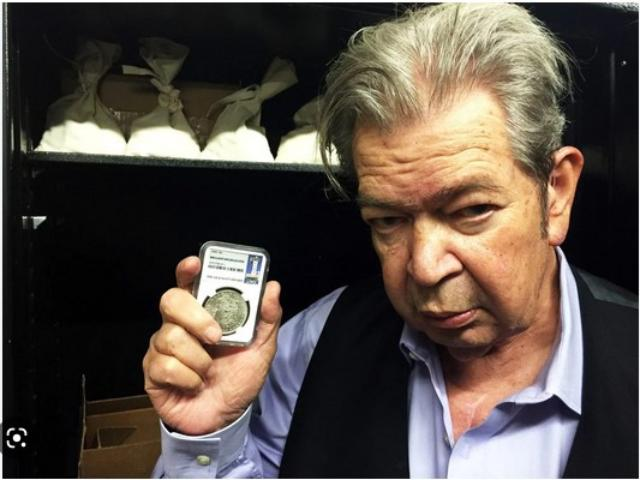forehead: (356, 152, 388, 184), (388, 152, 418, 182), (425, 142, 455, 166), (461, 140, 493, 156)
gummy_smile: (454, 248, 486, 294)
